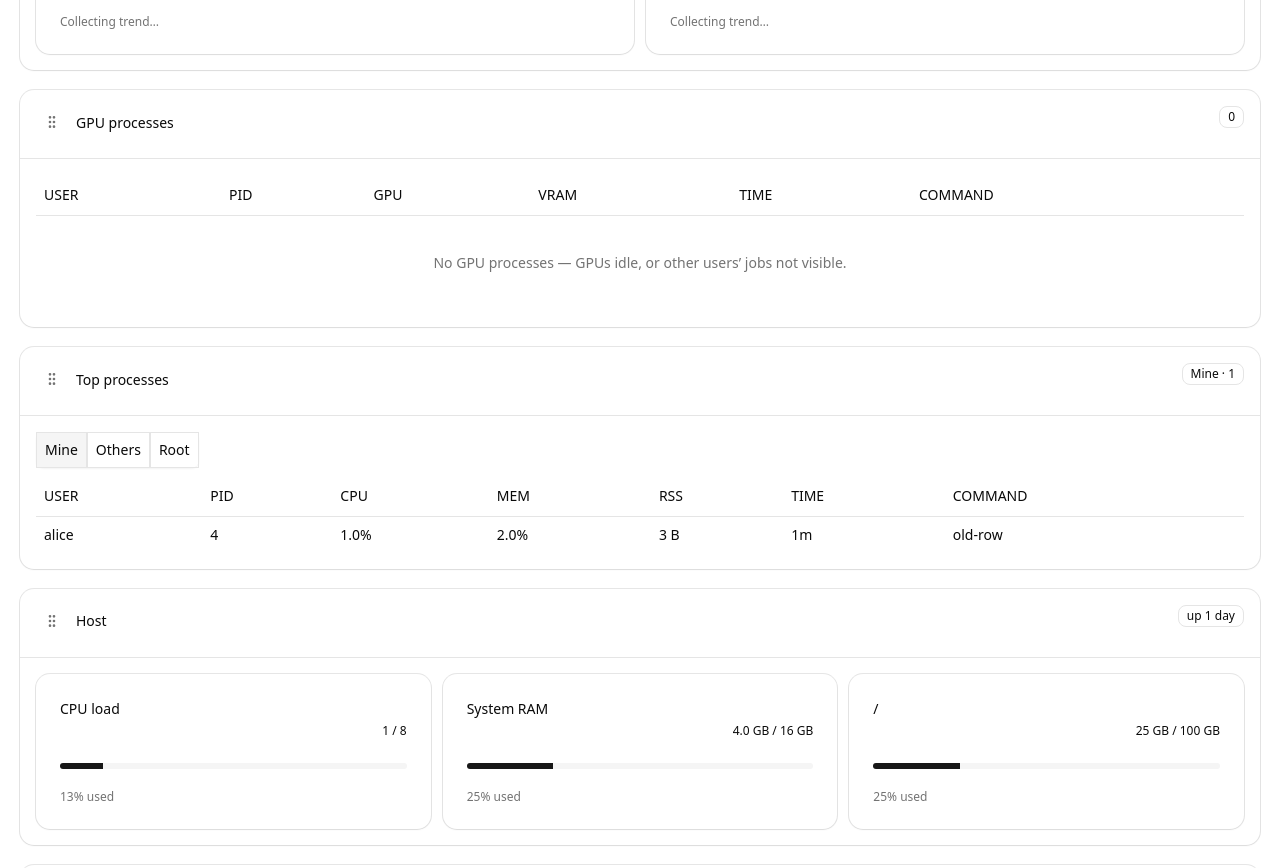
Monitor › renders process request failures immediately
(page scrolled)
Expected: the text "old-row" is shown, [945,516,1244,552]
Click the button with aria-label "Show Others processes": (118, 450) [87,432,150,468]
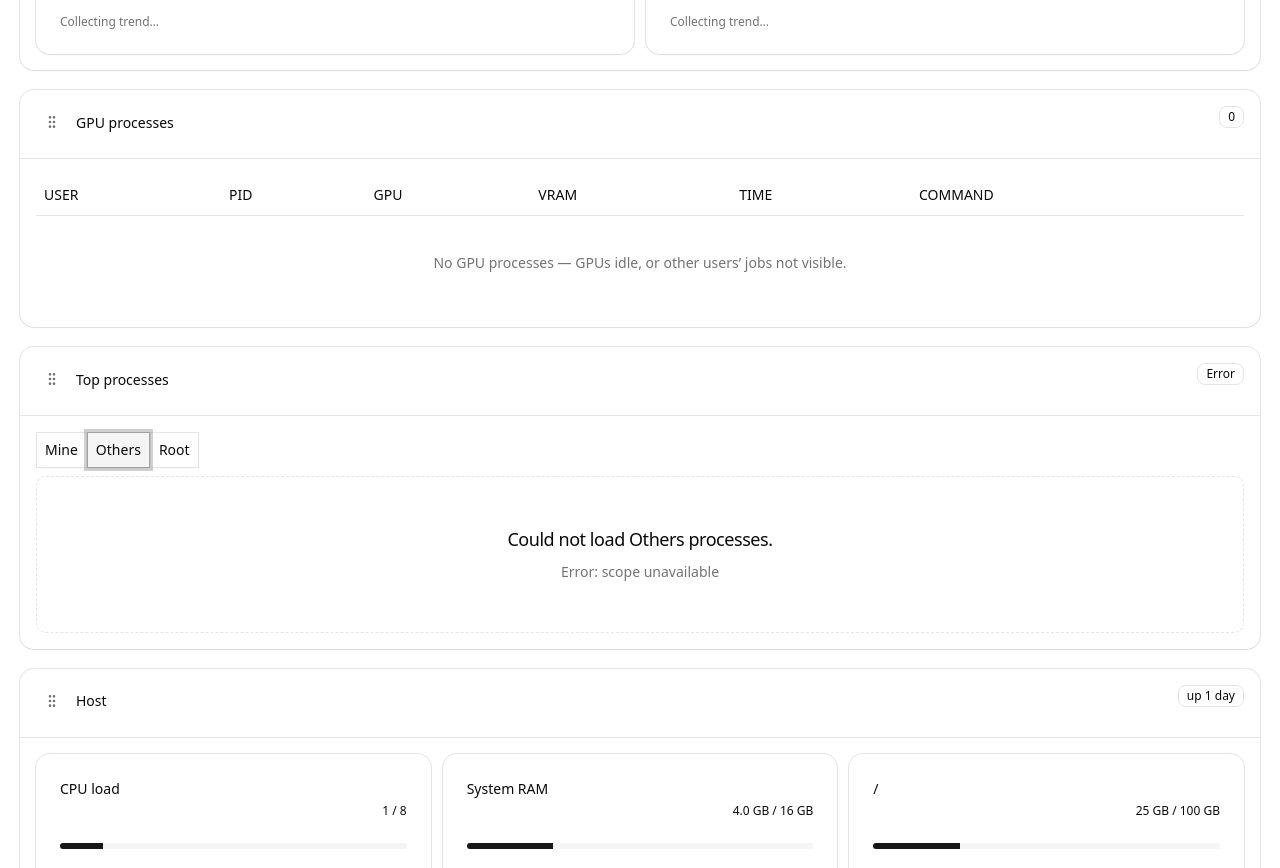
Result: the message reads "Could not load Others processes. Error: scope unavailable" at [36,476,1244,633]
Result: the button "old-row" is gone
